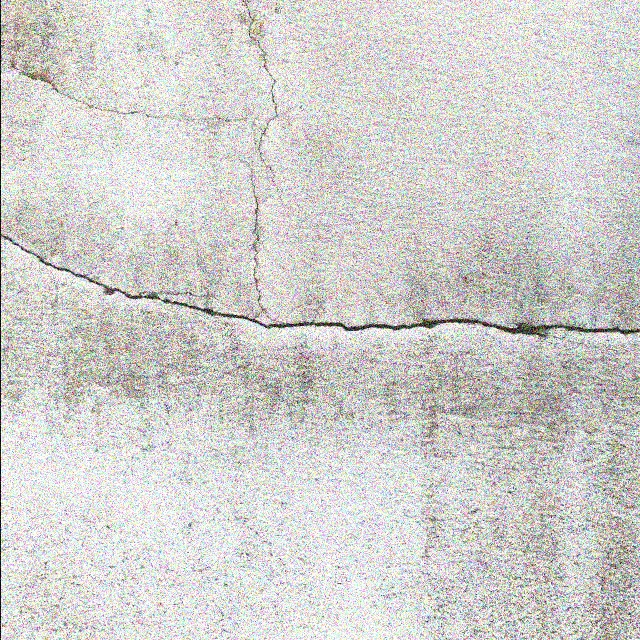SurfaceCrack: (2, 218, 639, 390)
